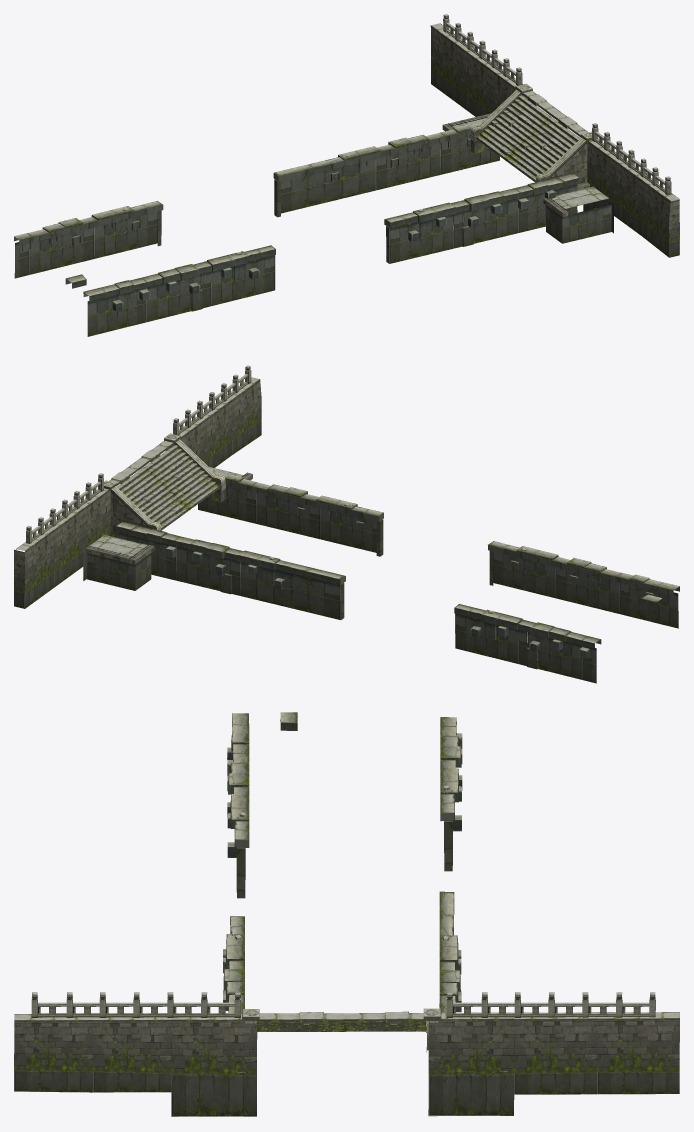
File: jd_piao_1.FBX
The picture shows the model from 3 angles, top to bottom: view 1: azimuth 30°, elevation 25°; view 2: azimuth 150°, elevation 25°; view 3: azimuth 270°, elevation 25°; orthographic projection. The views are drawn at different scales.
Visible parts, largest first — view 1: jd_piao_1; view 2: jd_piao_1; view 3: jd_piao_1.
Part boxes in pixels (left/top/right/bottom): jd_piao_1: left=14, top=14, right=679, bottom=336; jd_piao_1: left=14, top=365, right=679, bottom=683; jd_piao_1: left=14, top=712, right=679, bottom=1116.
Size of the model in its own units: 4567 by 776 by 3681.
